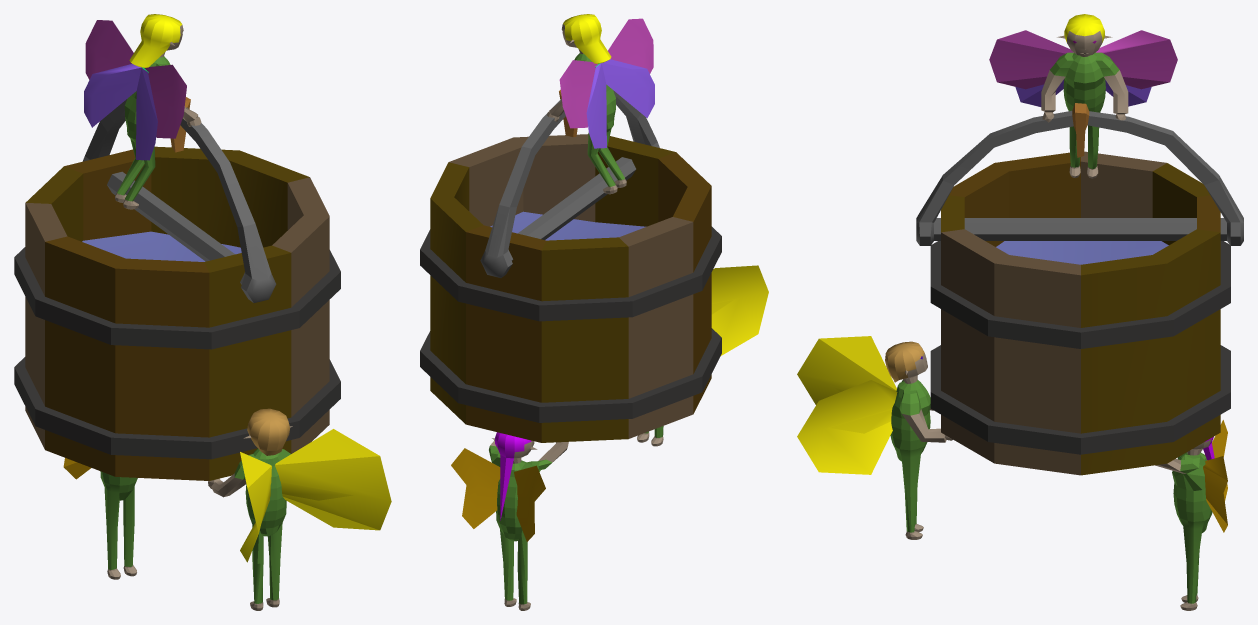
3 renders of one model, left to right at view 1: azimuth 30°, elevation 25°; view 2: azimuth 150°, elevation 25°; view 3: azimuth 270°, elevation 25°, orthographic. The views are drawn at different scales.
Visible parts, largest first — view 1: pCylinder2, Fairy_2:Fairy_2_Wings:pCube2, Fairy_1:pSphere8, Fairy_3:Fairy_3_Wings:pCube2; view 2: pCylinder2, Fairy_1:pSphere8, Fairy_3:Fairy_3_Wings:pCube2, Fairy_2:Fairy_2_Wings:pCube2; view 3: pCylinder2, Fairy_2:Fairy_2_Wings:pCube2, Fairy_1:pSphere8, Fairy_3:Fairy_3_Wings:pCube2.
Boxes of the visible parts, box(x1,y1,x2,y2) form: pCylinder2: box(14, 97, 340, 480); Fairy_2:Fairy_2_Wings:pCube2: box(208, 408, 391, 610); Fairy_1:pSphere8: box(84, 14, 201, 209); Fairy_3:Fairy_3_Wings:pCube2: box(63, 458, 137, 579); pCylinder2: box(420, 90, 721, 442); Fairy_1:pSphere8: box(547, 14, 654, 194); Fairy_3:Fairy_3_Wings:pCube2: box(451, 432, 568, 610); Fairy_2:Fairy_2_Wings:pCube2: box(637, 265, 768, 446); pCylinder2: box(916, 103, 1243, 475); Fairy_2:Fairy_2_Wings:pCube2: box(797, 336, 952, 539); Fairy_1:pSphere8: box(989, 14, 1177, 178); Fairy_3:Fairy_3_Wings:pCube2: box(1155, 420, 1227, 610).
Size of the model in its own units: 5.31 by 10.75 by 7.52.
